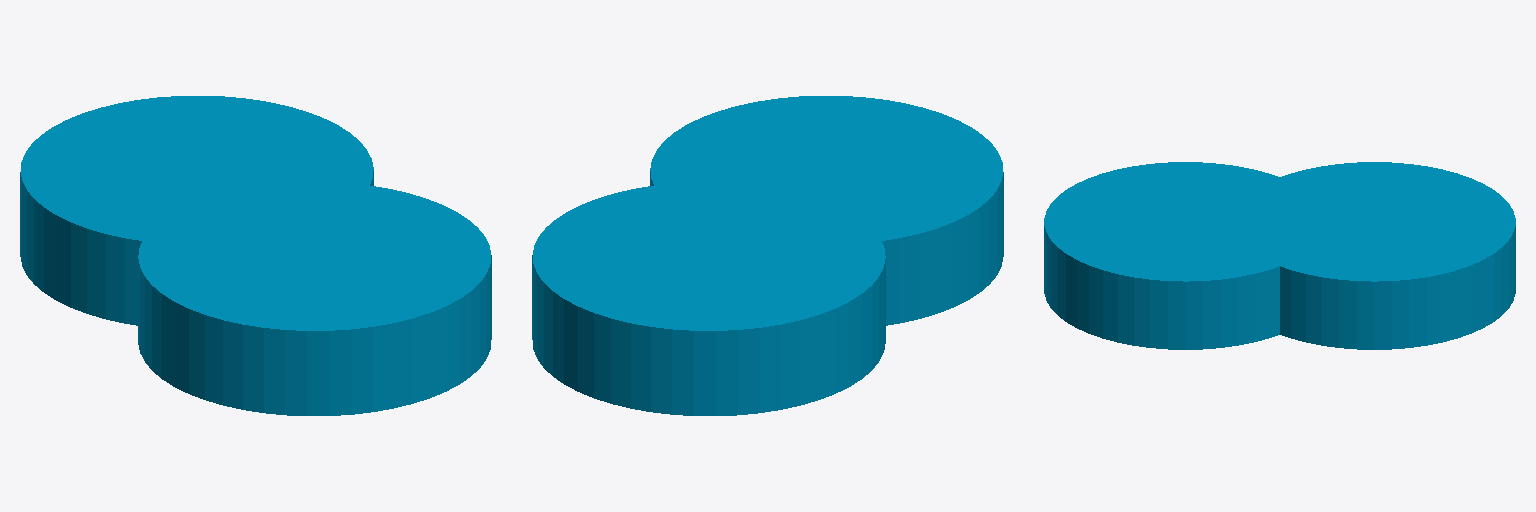
URDF robot description (my_contour):
<?xml version="1.0" ?>
<robot name="my_contour">
  <link name="contourLink">
    <inertial>
      <origin rpy="0 0 0" xyz="0 0 0"/>
       <mass value=".0"/>
       <inertia ixx="0" ixy="0" ixz="0" iyy="0" iyz="0" izz="0"/>
    </inertial>
    <visual>
      <origin rpy="1.5707 0 1.5707 " xyz="0.63 -0.05 0.02"/>
      <geometry>
		<mesh filename="two_cylinders.obj" scale="1.0 1.0 1.0"/>
         <!--cylinder radius="0.1" length="0.1"/-->
      </geometry>
       <material name="white">
        <color rgba="0.02 0.63 0.80 1"/>
      </material>
    </visual>
    <collision>
      <origin rpy=" 1.5707 0 1.5707" xyz="0.63 -0.05 0.02"/>
      <geometry>
	    <mesh filename="two_cylinders.obj" scale="1.0 1.0 1.0"/>
         <!--cylinder radius="0.1" length="0.1"/-->
      </geometry>
    </collision>
  </link>
</robot>

--- Render facts (derived) ---
3 views of the same robot in one strip: view 1: azimuth 30°, elevation 25°; view 2: azimuth 150°, elevation 25°; view 3: azimuth 270°, elevation 25° (orthographic).
Robot: my_contour — 1 links, 0 joints (none); root link contourLink; default pose: every joint at zero.
Visible links, largest first — view 1: contourLink; view 2: contourLink; view 3: contourLink.
Link boxes in pixels (x1,y1,x2,y2): contourLink: (20, 96, 491, 415); contourLink: (532, 96, 1003, 415); contourLink: (1044, 162, 1515, 349).
Bounding box of the posed robot: 0.15 × 0.2497 × 0.04 m (x, y, z).
1 mesh visuals loaded from 1 distinct referenced files (1 OBJ).
